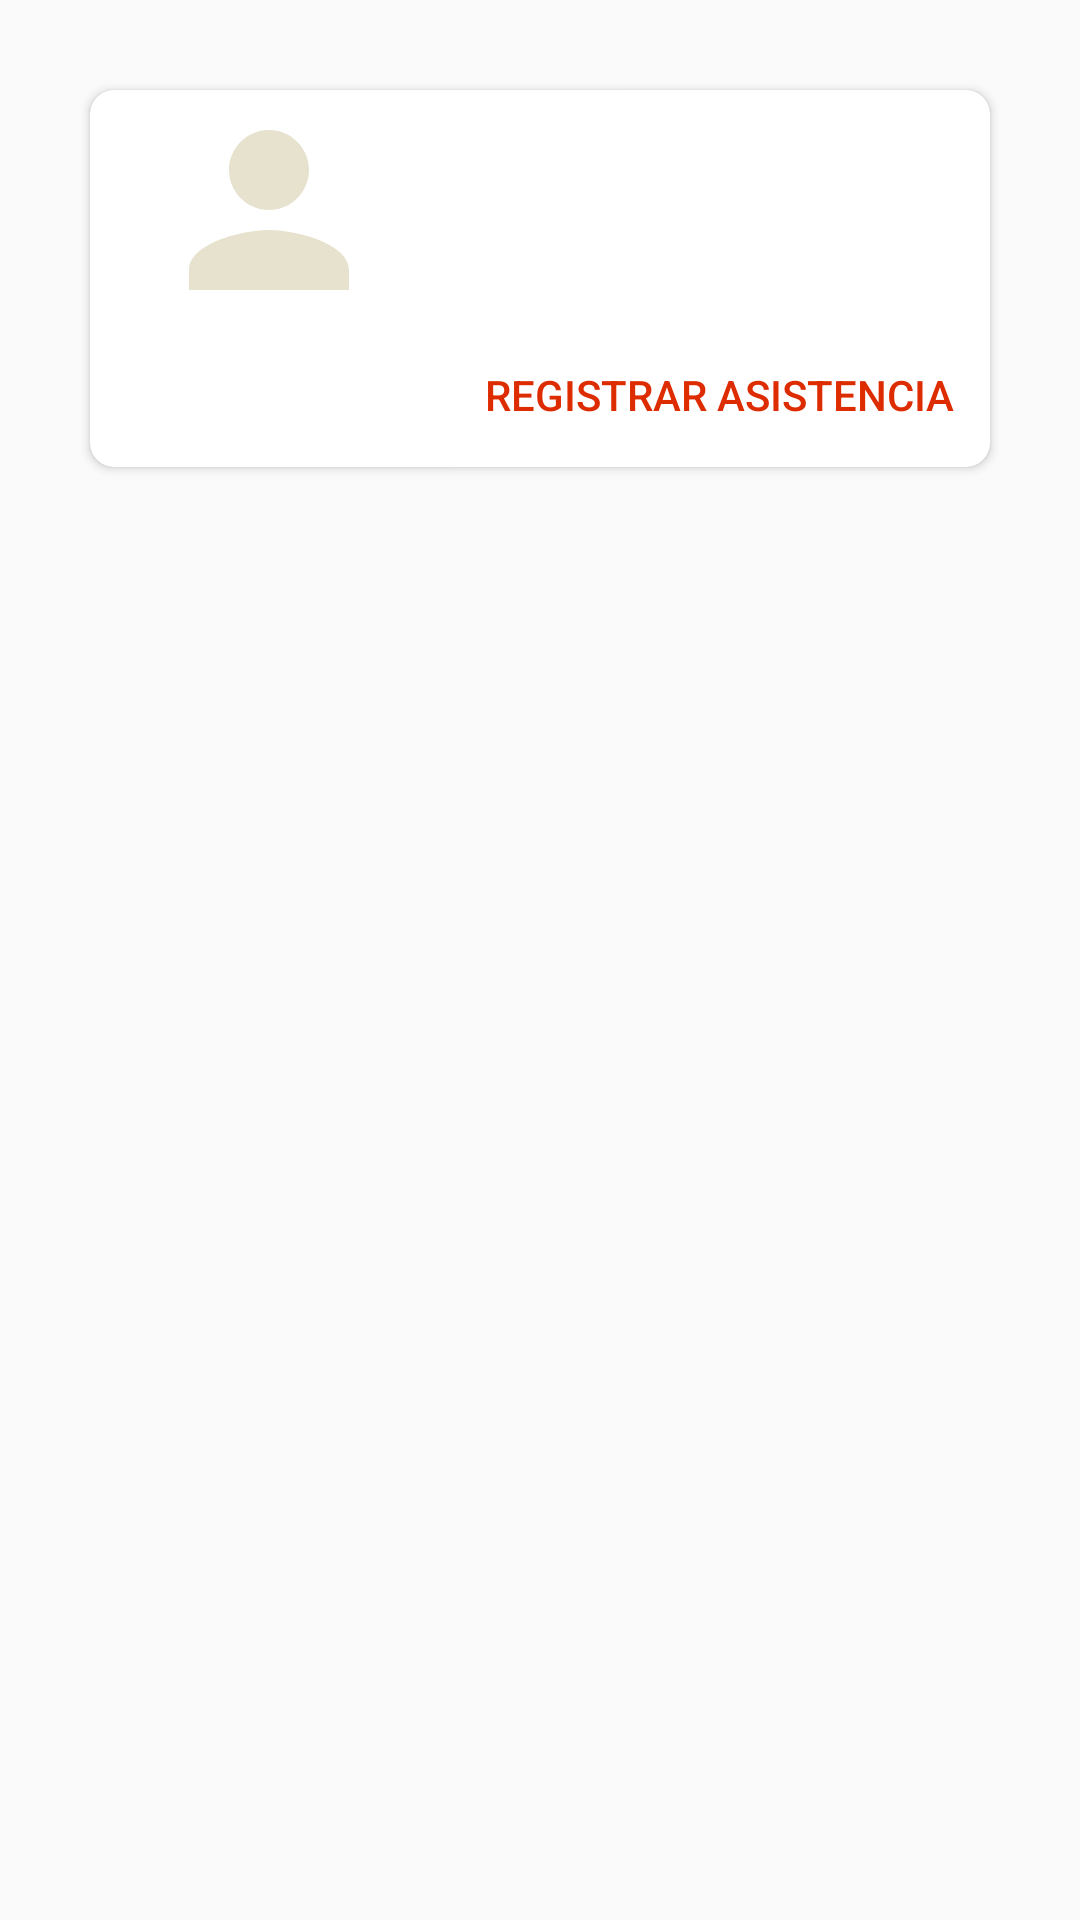

Locate icon controls on the screen. Image size 1080x1920, boxes as Rect(x1, y1, x2, y2).
person: Rect(189, 130, 349, 290)
